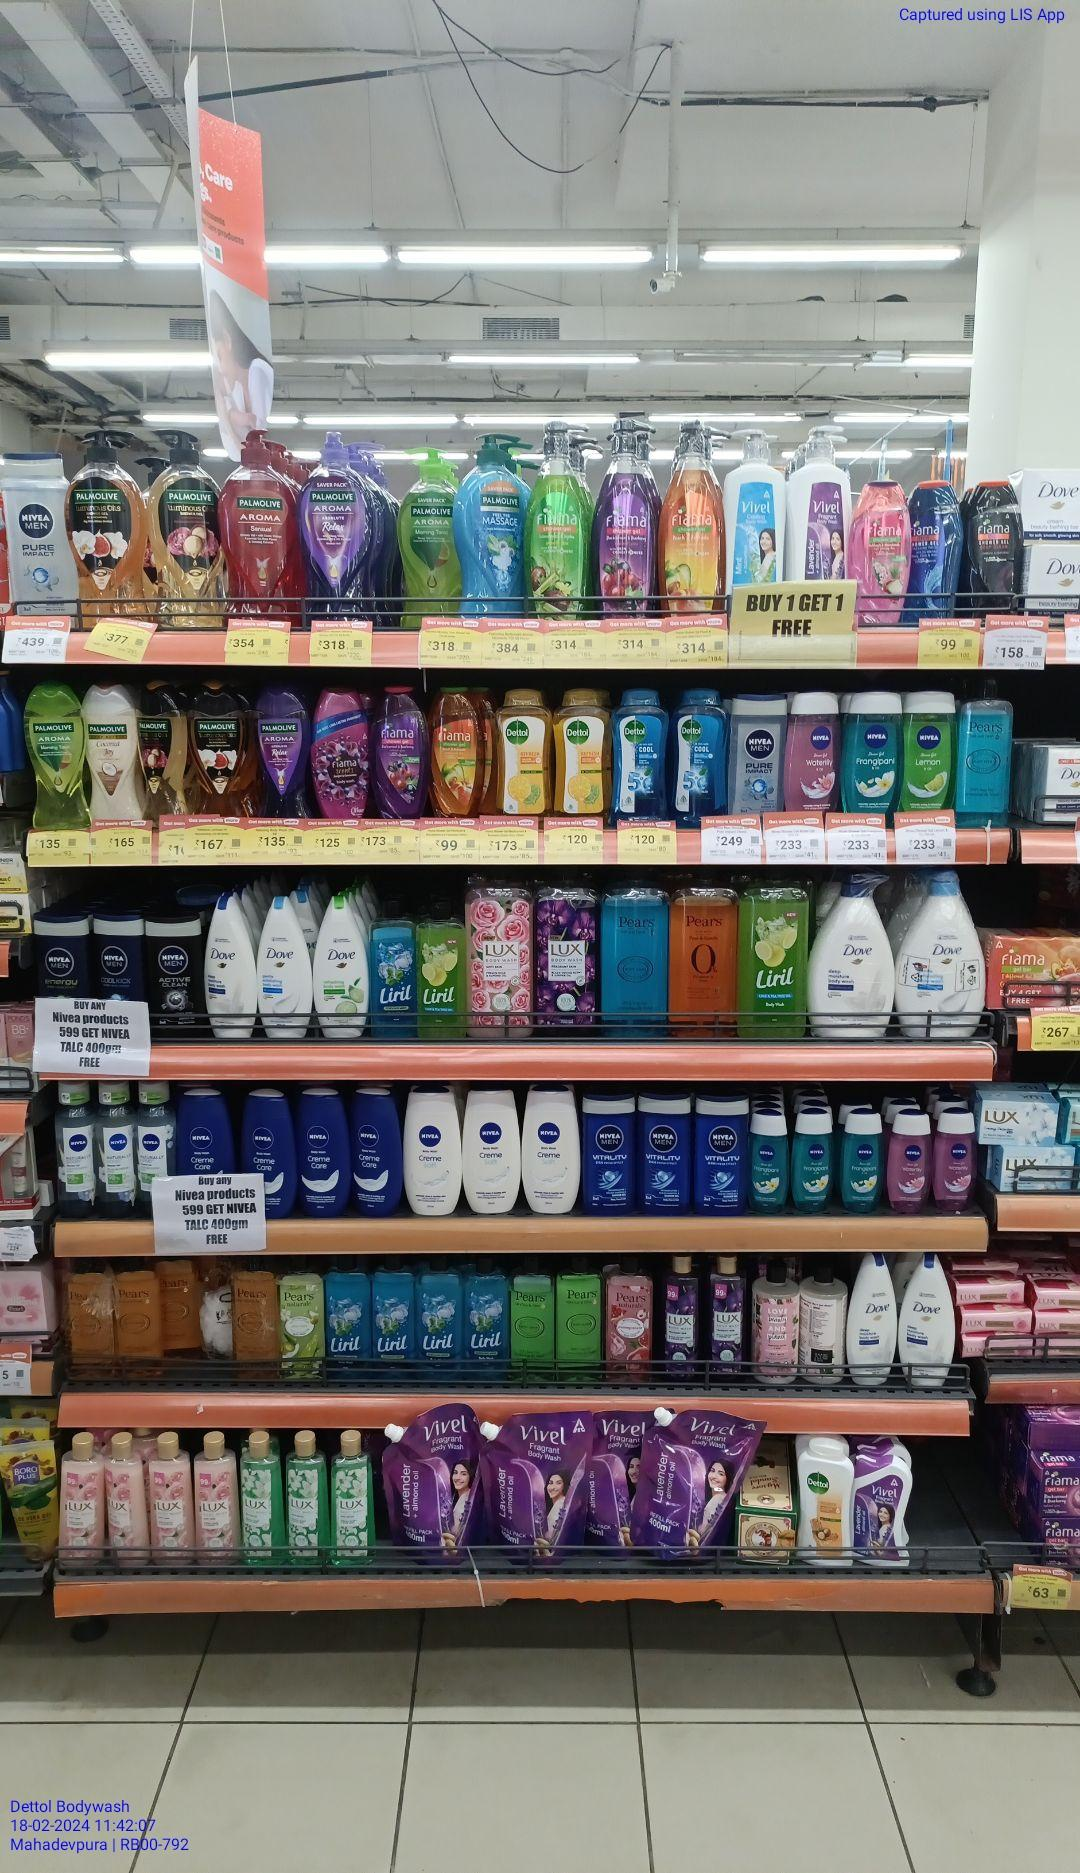Dettol_Bodywash_Cool: (612, 690, 670, 819), (672, 690, 725, 822)
Dettol_Bodywash_Refresh: (491, 687, 552, 816), (552, 686, 609, 813)
Dettol_Nourish_Body_Wash_250ML: (796, 1436, 851, 1571)
Dove_Deep_Moisture_Body_Wash_250ML: (899, 1252, 955, 1392), (204, 894, 260, 1036), (846, 1252, 897, 1387)
Dove_Gentle_Exfoliating_Body_Wash_250ML: (261, 890, 314, 1037)
Dove_Refreshing_Body_Wash_250ML: (316, 894, 368, 1039)
Fiama_Shower_Gel_Patchouli_and_Macadamia_250ML: (851, 481, 908, 625)
Fiama_Shower_Gel_Peach_and_Avocado_250ML: (429, 687, 482, 816)
Liril_Cooling_Mint_Body_Wash_250ML: (417, 1256, 465, 1382), (370, 904, 413, 1039), (328, 1258, 372, 1379), (467, 1257, 509, 1379), (374, 1258, 415, 1379)
Liril_Lime_and_Tea_Tree_Oil_Body_Wash_250ML: (417, 902, 468, 1041)
Lux_Black_Orchid_Scent_and_Juniper_Oil_Body_Wash_245ML: (701, 1254, 746, 1383), (661, 1256, 697, 1383)
Lux_Body_Wash_Skin_Detox_Freesia_Scent_and_Alove_Vera_245ML: (237, 1430, 288, 1572), (332, 1430, 378, 1568), (291, 1429, 329, 1567)
Nivea_Creme_Care_Body_Wash_250ML: (300, 1086, 350, 1214), (244, 1090, 294, 1216), (354, 1087, 402, 1212), (174, 1086, 229, 1174)
Nivea_Shower_Gel_Frangipani_and_Oil_250ML: (843, 692, 896, 812)
Nivea_Shower_Gel_Lemon_and_Oil_250ML: (901, 688, 953, 812), (558, 1259, 603, 1388), (512, 1259, 555, 1385)
Nivea_Shower_Gel_Waterlily_and_Oil_250ML: (784, 695, 840, 812)
Palmolive_Aroma_Morning_Tonic_Shower_Gel_250ML: (24, 681, 86, 830)
Palmolive_Aroma_Relax_250ML: (251, 688, 306, 818)
Palmolive_Coconut_Joy_Exfoliating_Body_Wash_250ML: (87, 682, 144, 822)
Palmolive_Luminous_Oils_Invigorating_Macadamia_Oil_With_Peony_250ML: (145, 681, 186, 817)
Palmolive_Luminous_Oils_With_White_Orchid_Shower_Gel_250ML: (192, 681, 243, 819)
Pears_Naturale_Aloe_Vera_Body_Wash_250ML: (279, 1259, 323, 1380)
Pears_Pure_Glycerin_and_Mint_Extracts_Body_Wash_250ML: (955, 677, 1012, 831)
